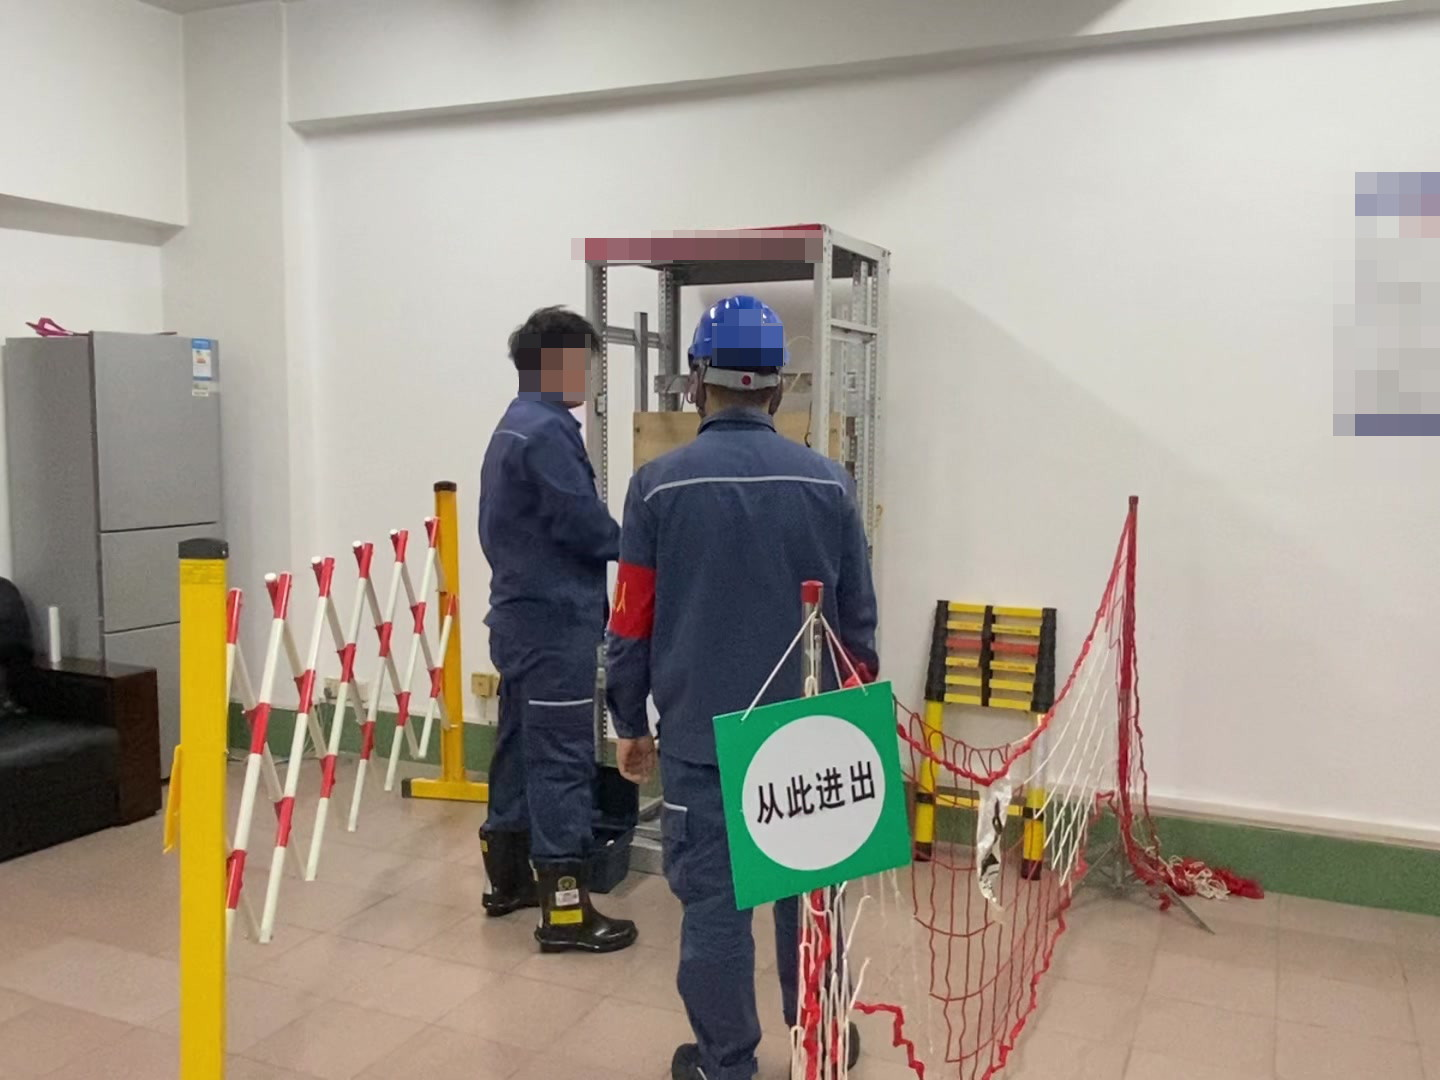badge: (607, 560, 659, 641)
downsuit: (650, 768, 761, 1080), (479, 627, 604, 881)
halt: (685, 292, 794, 417)
hand: (616, 738, 657, 786)
intosign: (706, 683, 924, 904)
noear: (523, 347, 566, 391)
person: (615, 288, 882, 1077), (468, 303, 623, 945)
shoe: (534, 850, 641, 960), (479, 833, 560, 916)
unhalt: (508, 307, 604, 402)
upsuit: (627, 415, 880, 714), (476, 392, 614, 614)
